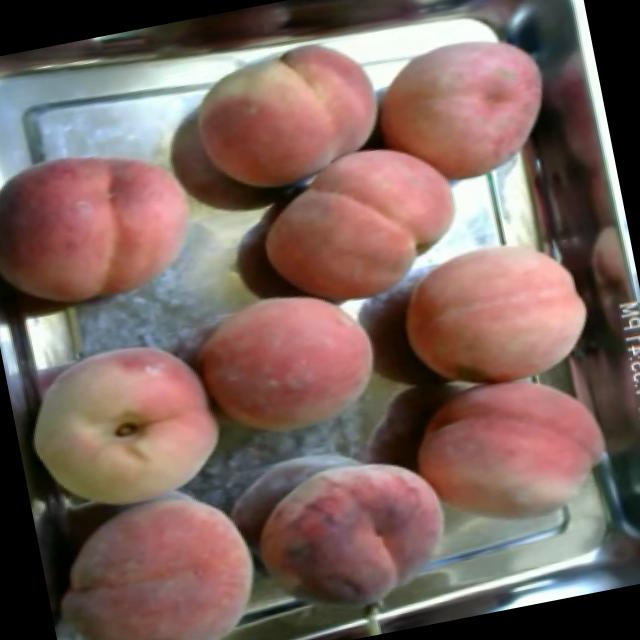Fruit: (220, 427, 472, 639), (235, 120, 484, 324), (8, 316, 244, 526), (170, 16, 406, 222), (169, 264, 398, 468), (0, 121, 214, 330), (394, 360, 624, 554), (381, 214, 608, 406), (34, 478, 290, 640), (356, 10, 572, 202)
